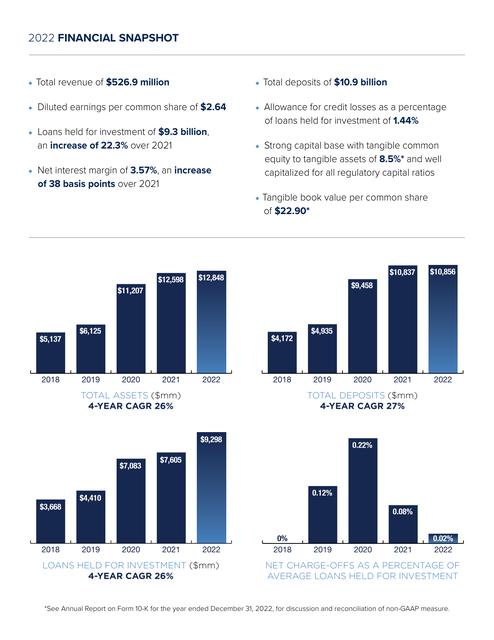box: (262, 264, 464, 413), (30, 432, 232, 581), (28, 268, 233, 412), (261, 438, 463, 581)
